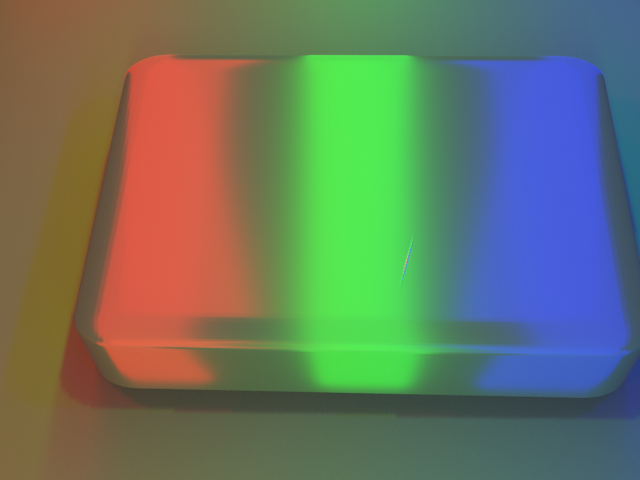scratch: (294, 195, 542, 342)
